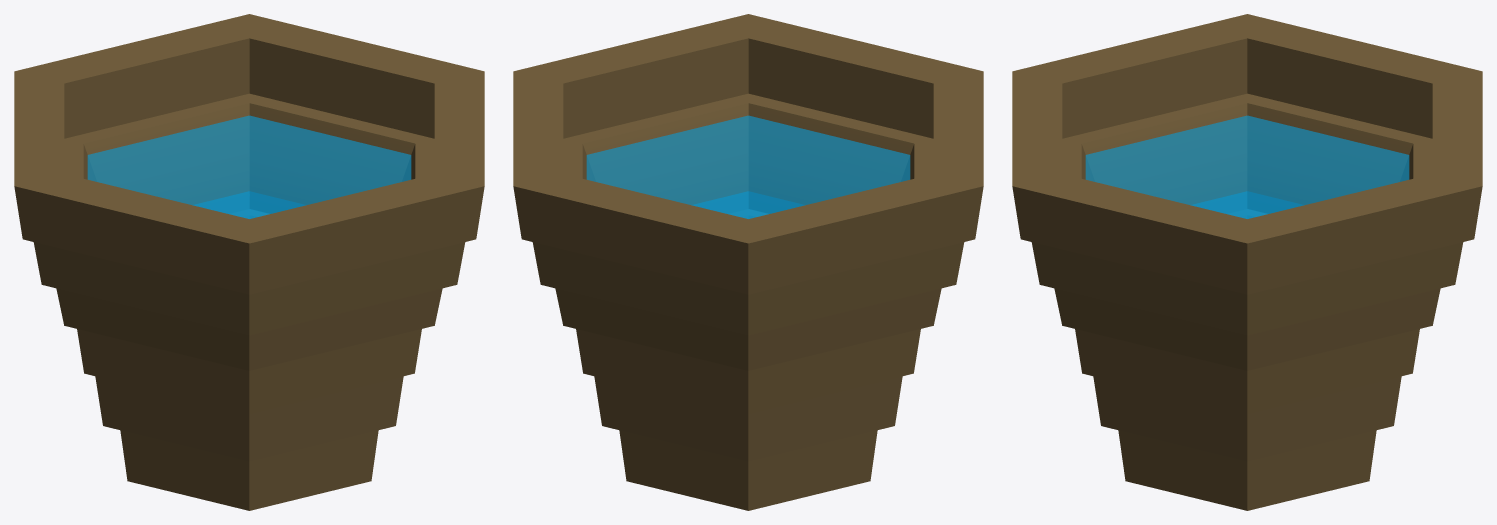
Rendered from Bucket.fbx.
3 views of the same model, side by side, from view 1: azimuth 30°, elevation 25°; view 2: azimuth 150°, elevation 25°; view 3: azimuth 270°, elevation 25° (orthographic).
Parts seen in each view (by area): view 1: pCylinder3; view 2: pCylinder3; view 3: pCylinder3.
Part boxes in pixels (<box>): pCylinder3: <box>14,14,484,510</box>; pCylinder3: <box>513,14,983,510</box>; pCylinder3: <box>1012,14,1482,510</box>.
Size of the model in its own units: 520 by 341 by 450.
